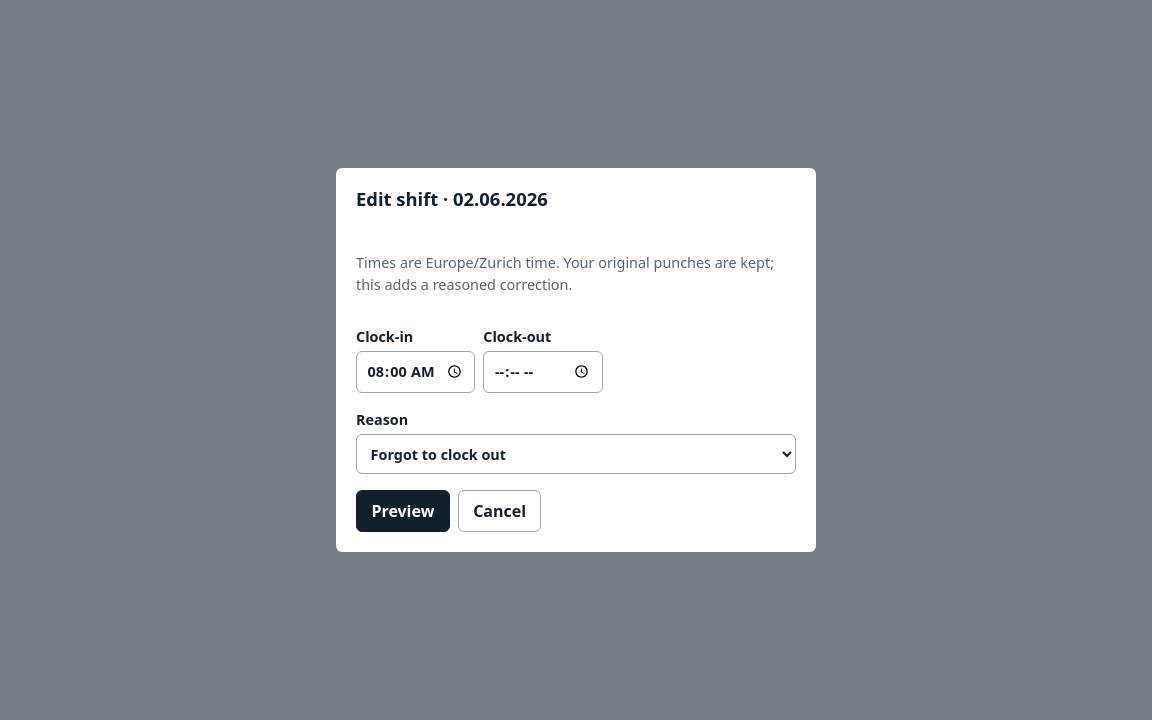
Test: previews the effective before/after, then saves only after confirmation, sending Zurich local time and a reason
Later steps or results of the test are not shown.
Type "17:00" into the time field labelled "Clock-out" at [543, 372], box [483,351,603,393]
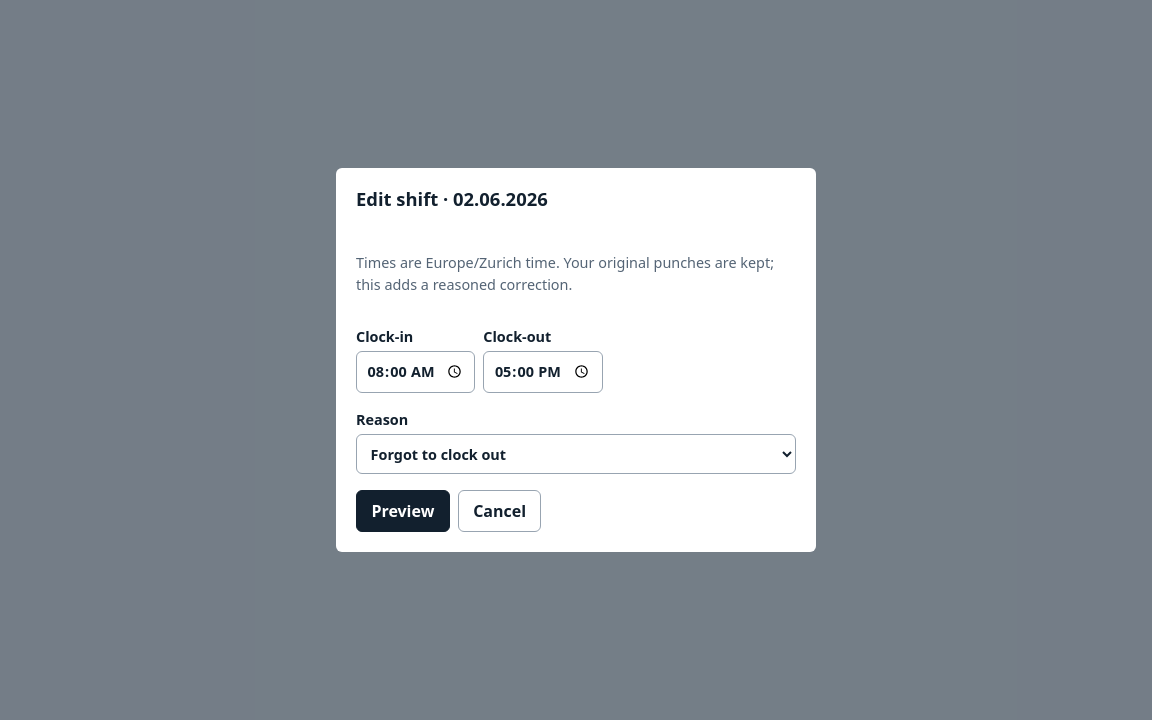
Click the button "Preview" at [403, 512], box [356,490,450,532]
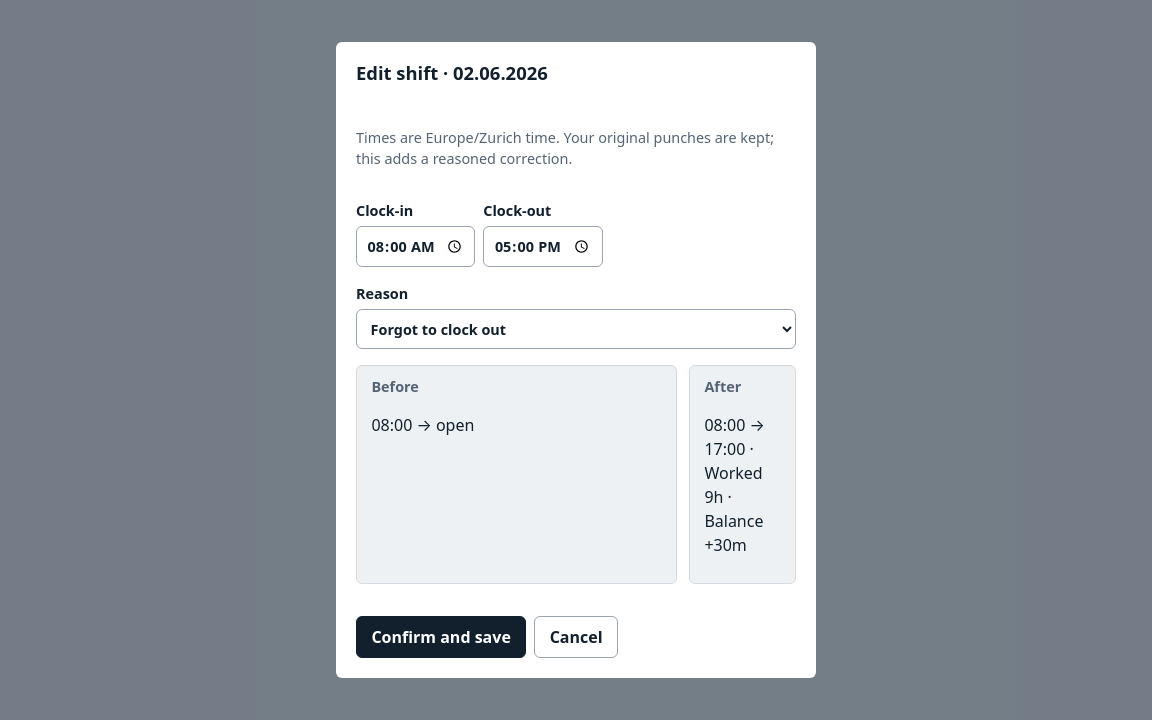
Check: the heading "Before" is shown, box [371,377,419,396]
Check: the heading "After" is shown, box [704,377,741,396]
